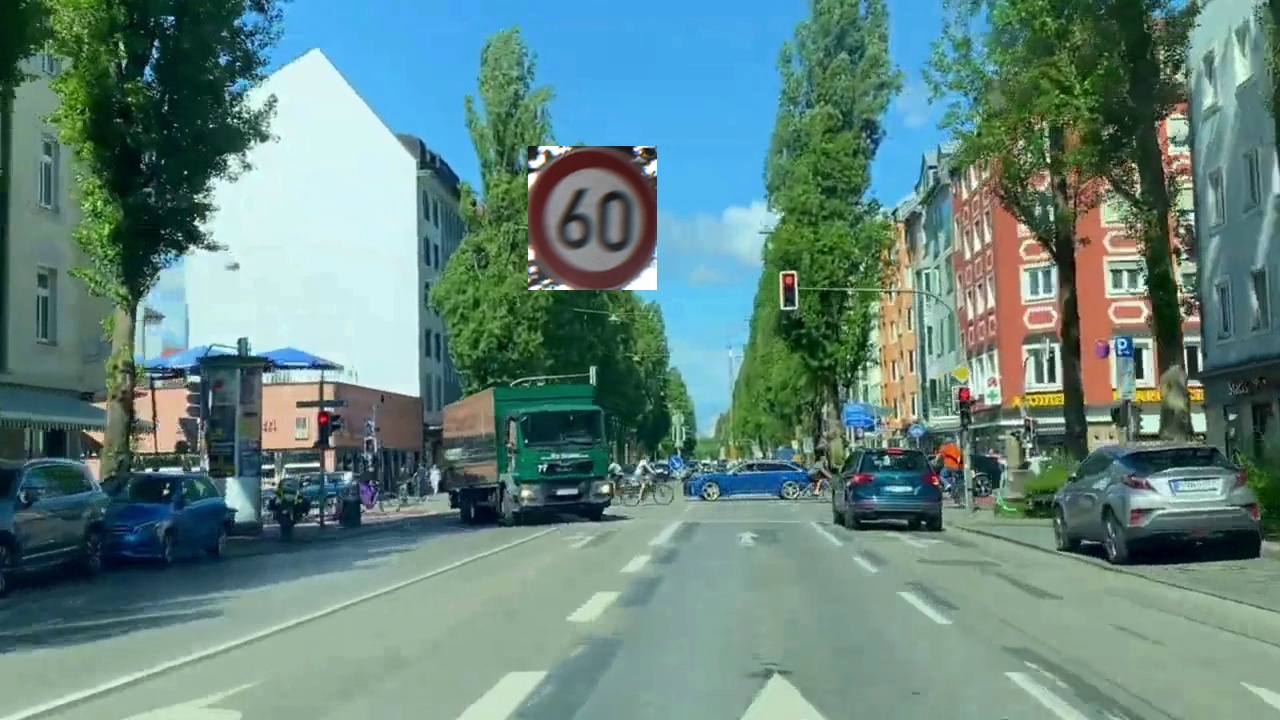Speed 60: (528, 146, 657, 290)
